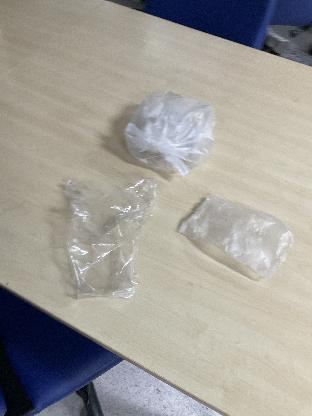Others: (48, 171, 164, 307), (174, 182, 296, 294), (117, 87, 226, 183)
